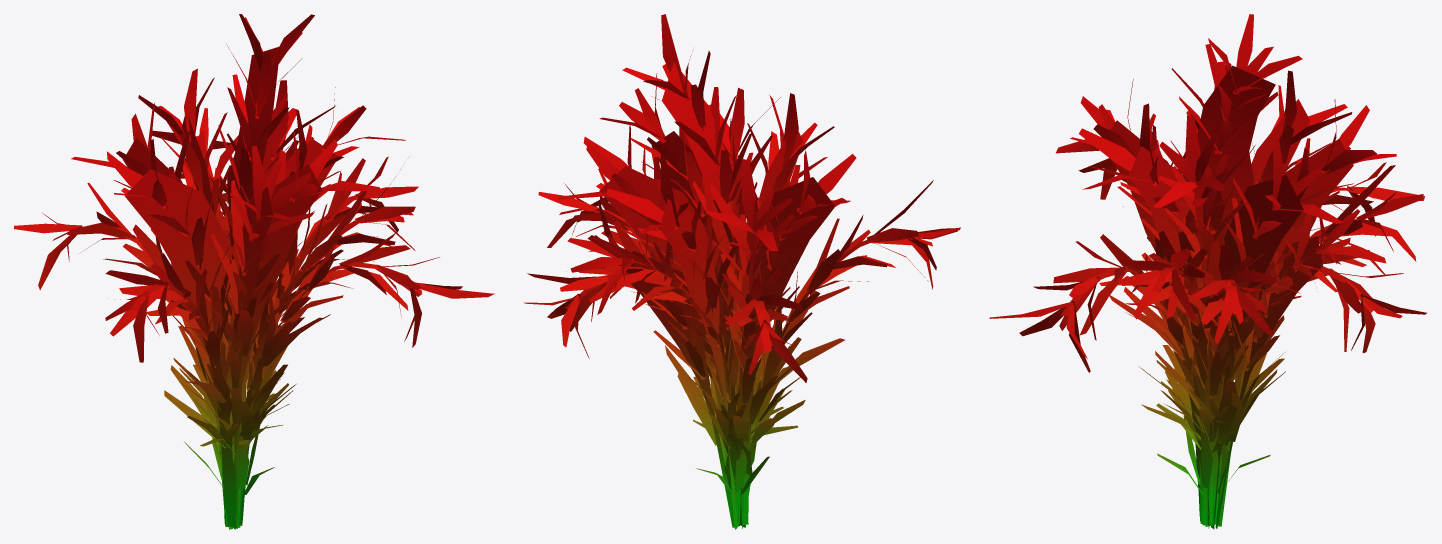
Rendered from Var9_LOD5.fbx.
The picture shows the model from 3 angles, left to right: view 1: azimuth 30°, elevation 25°; view 2: azimuth 150°, elevation 25°; view 3: azimuth 270°, elevation 25°; orthographic projection. The views are drawn at different scales.
Visible parts, largest first — view 1: _lw5p_Var9_LOD5; view 2: _lw5p_Var9_LOD5; view 3: _lw5p_Var9_LOD5.
Part boxes in pixels (x1,y1,x2,y2): _lw5p_Var9_LOD5: [14, 14, 494, 529]; _lw5p_Var9_LOD5: [524, 14, 960, 529]; _lw5p_Var9_LOD5: [989, 14, 1426, 529].
Size of the model in its own units: 24.74 by 33.03 by 24.79.
